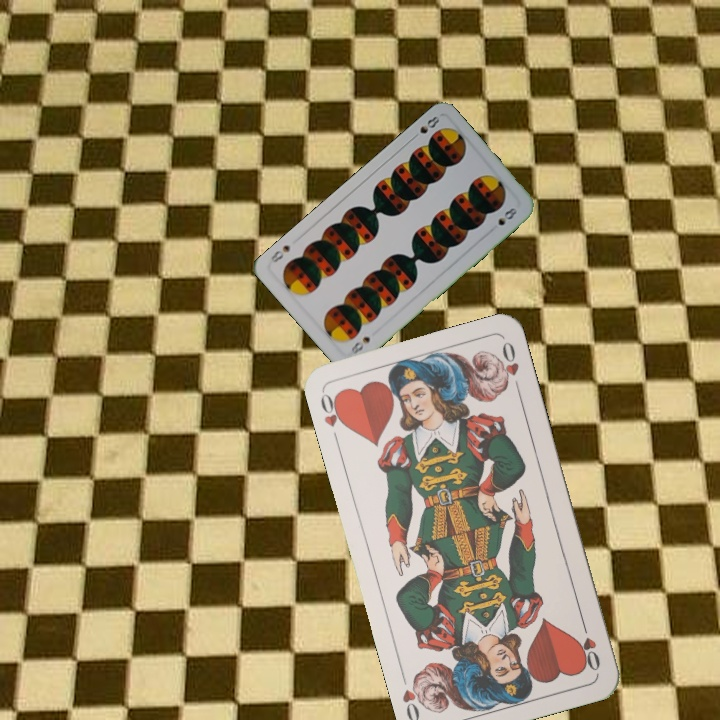HO: (316, 388, 349, 446), (574, 617, 603, 674)
S8: (407, 112, 442, 143), (347, 332, 373, 357)
